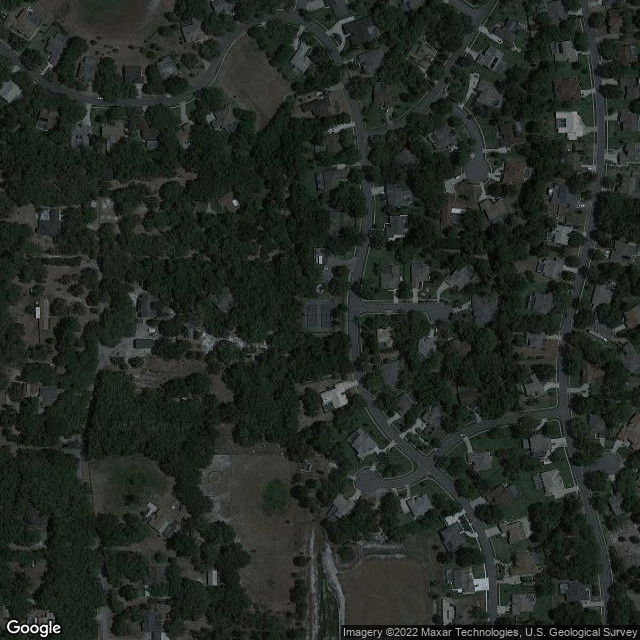Court: (306, 304, 317, 328), (320, 305, 332, 327)
